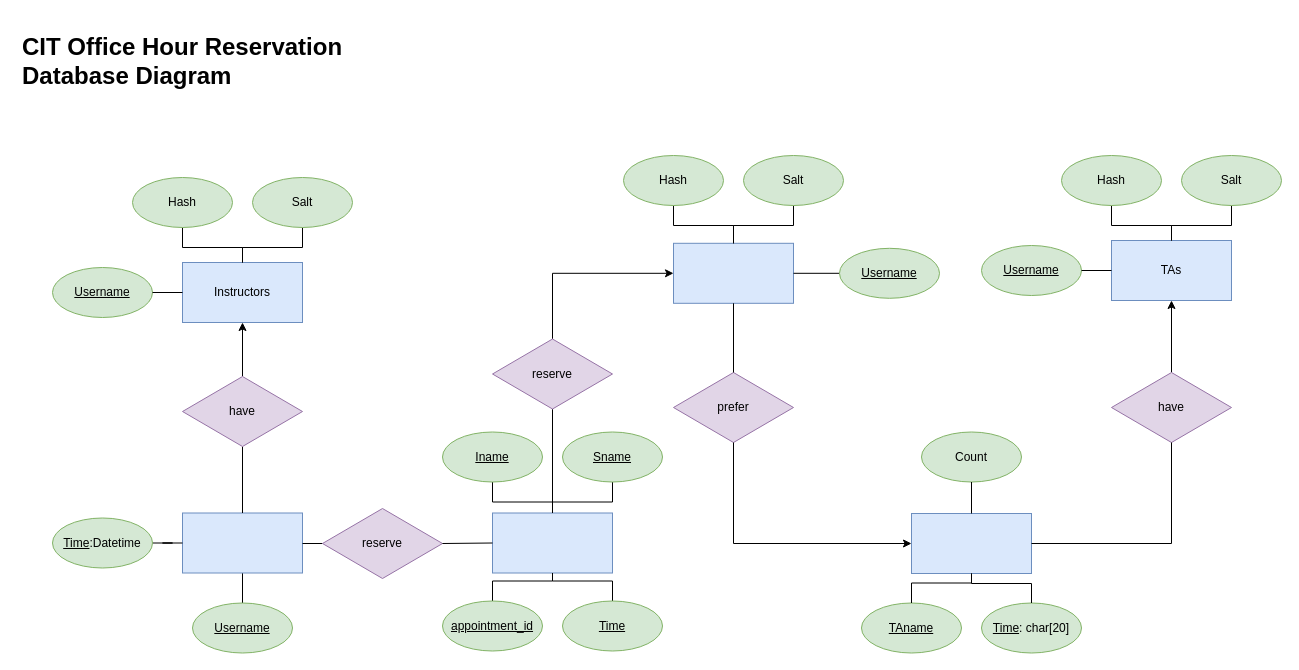
The diagram is 1299 pixels wide and 670 high, and some of its shapes have lost their labels. Each missing label, with the box of its shape:
InstrAvailabilities: (182, 512, 302, 573)
Schedules: (492, 512, 612, 573)
Students: (672, 242, 794, 303)
TAAvailabilities: (910, 512, 1032, 574)
